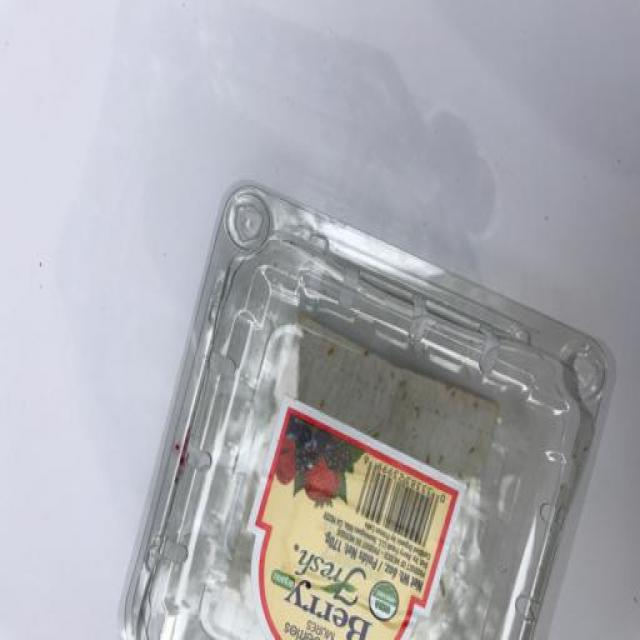plastic_bottle: (98, 177, 640, 640)
